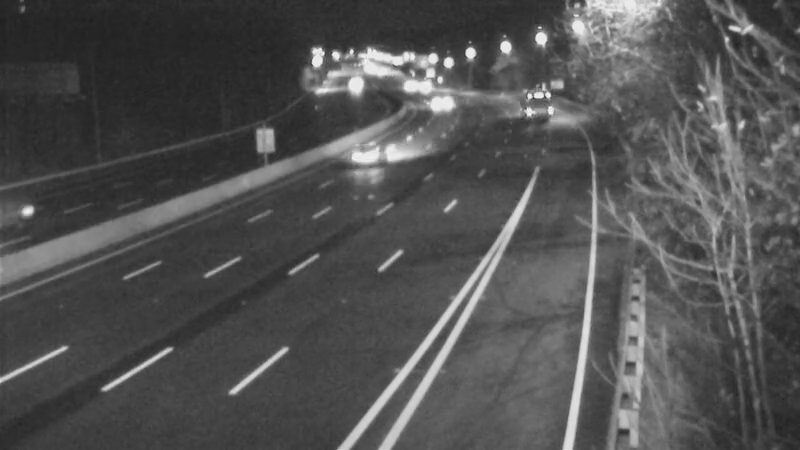vehicle: (335, 117, 415, 197), (1, 176, 66, 256), (379, 58, 429, 108), (394, 62, 444, 112), (517, 78, 567, 128), (416, 77, 466, 127)
